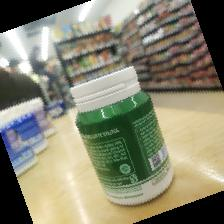Xylitol_green: (69, 65, 172, 207)
